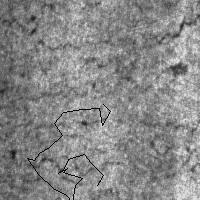crazing: (1, 13, 198, 110), (4, 119, 133, 186), (27, 104, 110, 200)
